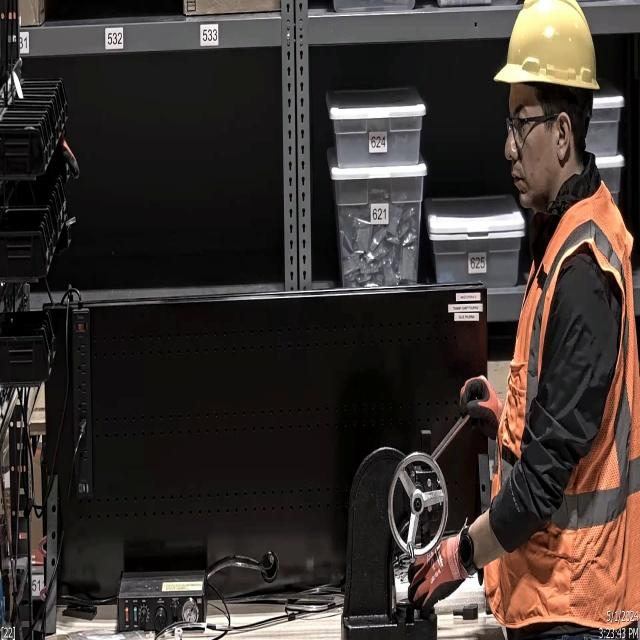gloves: (402, 536, 460, 624)
